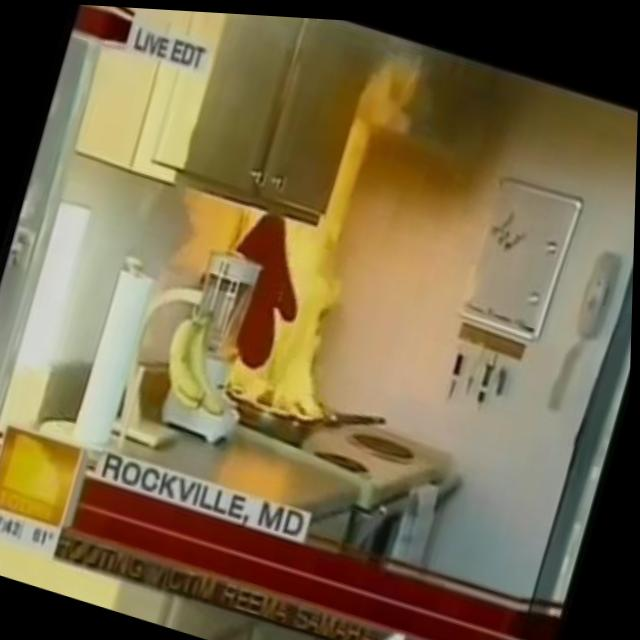fire: (221, 118, 398, 434)
